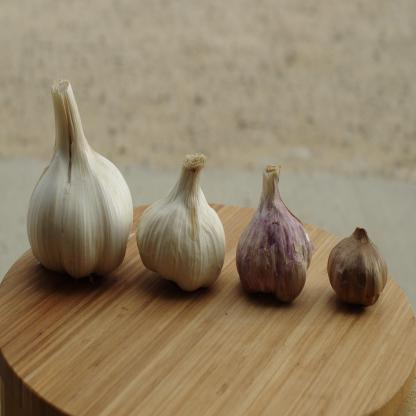garlic: (33, 66, 133, 290), (138, 150, 228, 304), (242, 158, 317, 303)
